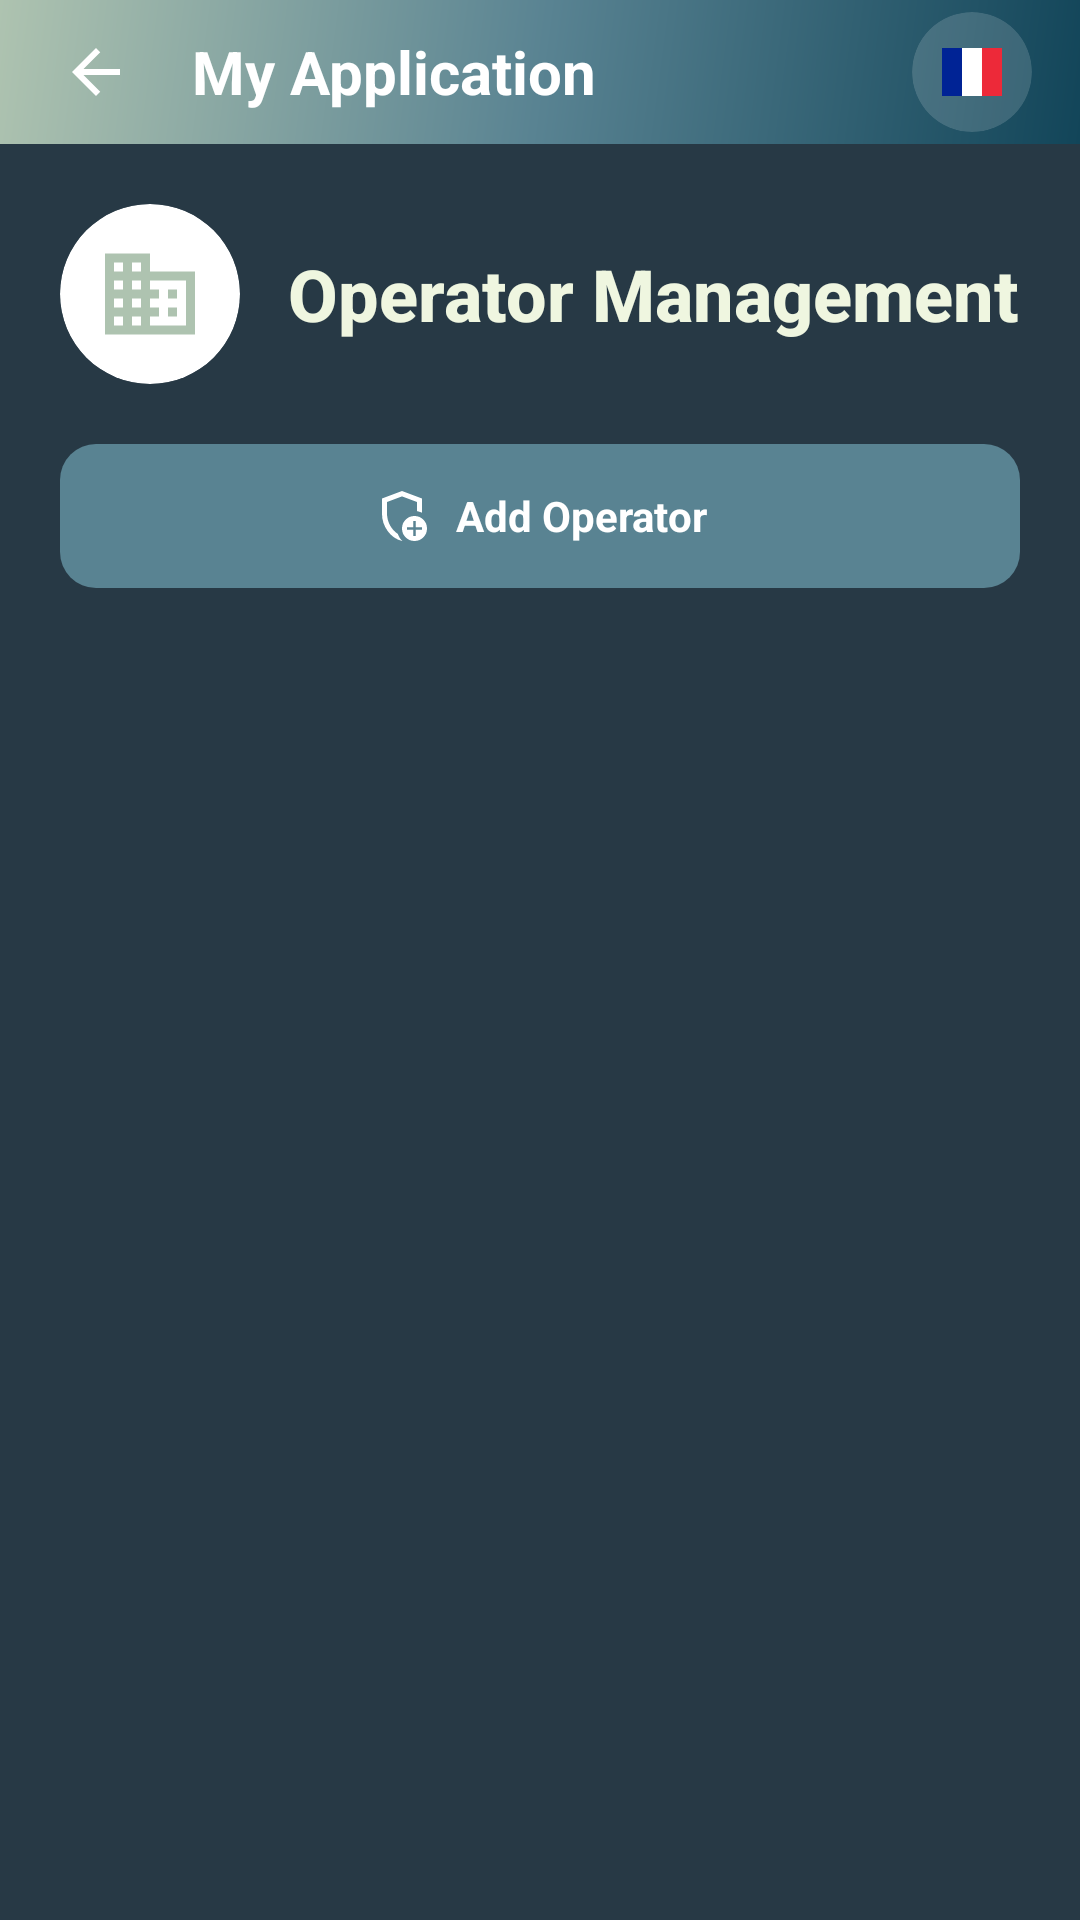

Screen size 1080w x 1920h. Icon name, then its center in pixels as point (x, y):
add moderator: point (404, 516)
back: point (96, 72)
banking: point (150, 294)
flag fr: point (972, 72)
